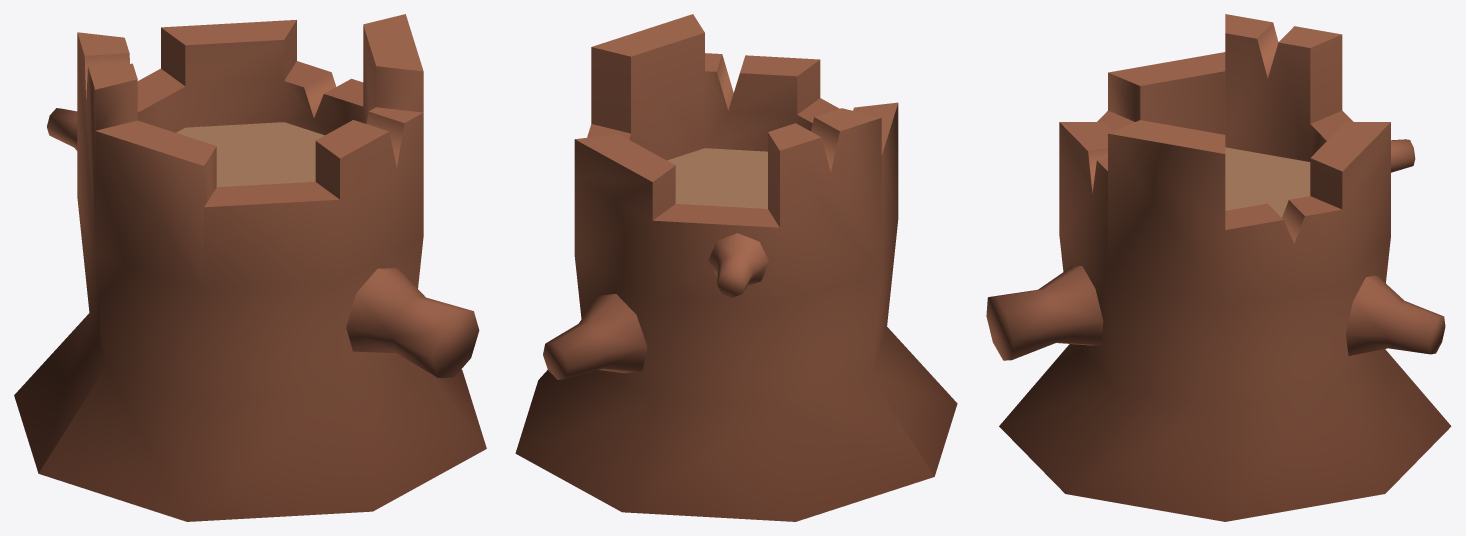
File: trunk.glb
3 renders of one model, left to right at view 1: azimuth 30°, elevation 25°; view 2: azimuth 150°, elevation 25°; view 3: azimuth 270°, elevation 25°, orthographic. The views are drawn at different scales.
Visible parts, largest first — view 1: trunk; view 2: trunk; view 3: trunk.
Part boxes in pixels (x1,y1,x2,y2): trunk: (14, 14, 486, 521); trunk: (515, 14, 957, 521); trunk: (986, 14, 1451, 521).
Size of the model in its own units: 0.7191 by 0.6 by 0.739.
